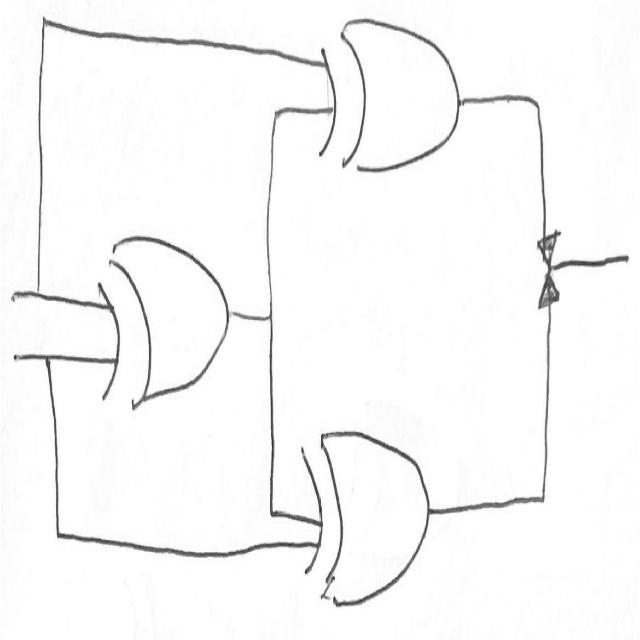XOR: (81, 211, 243, 446), (306, 4, 465, 218), (287, 413, 440, 618)
